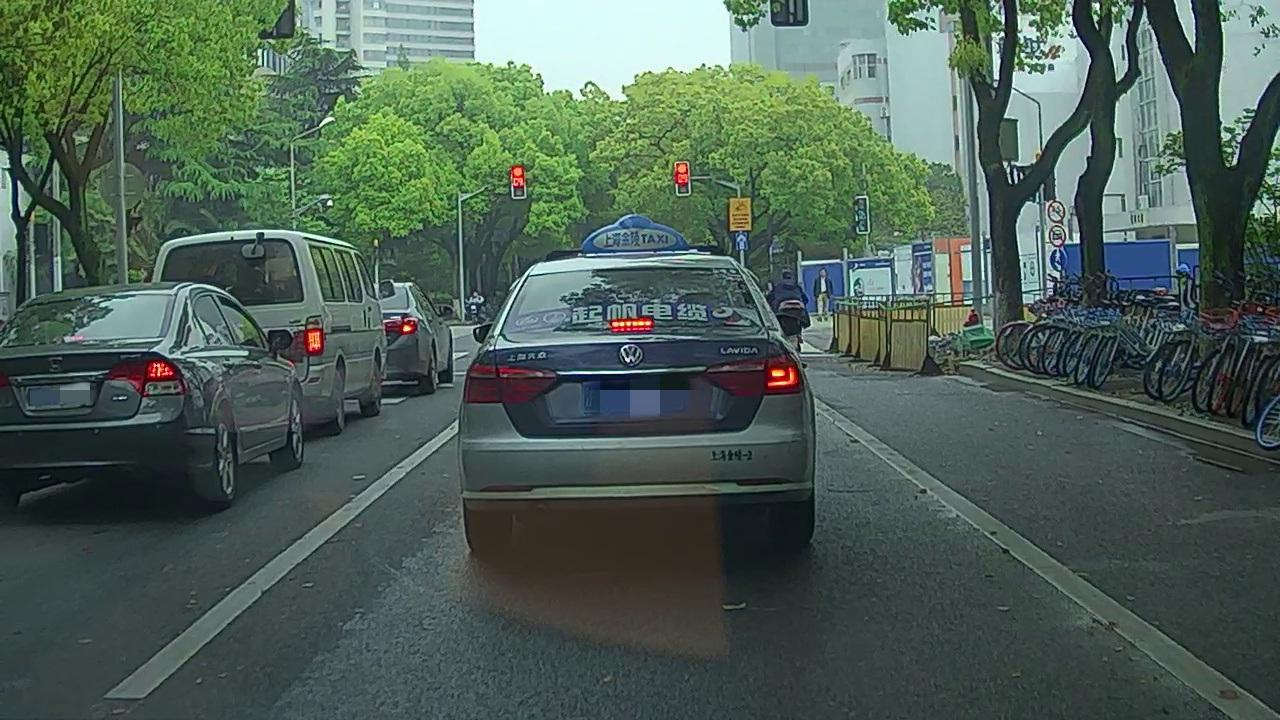traffic_light: (676, 162, 689, 194), (513, 164, 525, 197)
